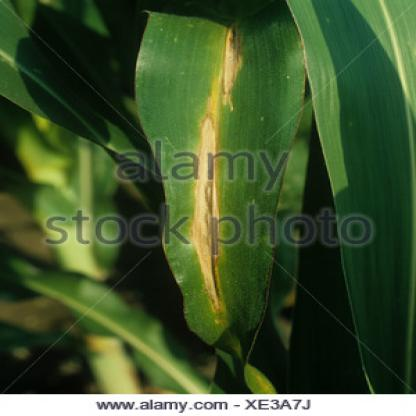corn leaf blight: (144, 1, 293, 345)
